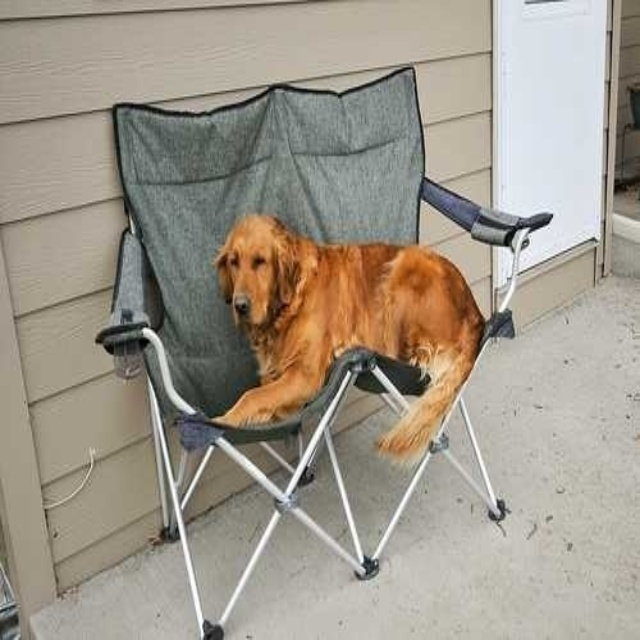obstacle: (97, 67, 550, 636)
